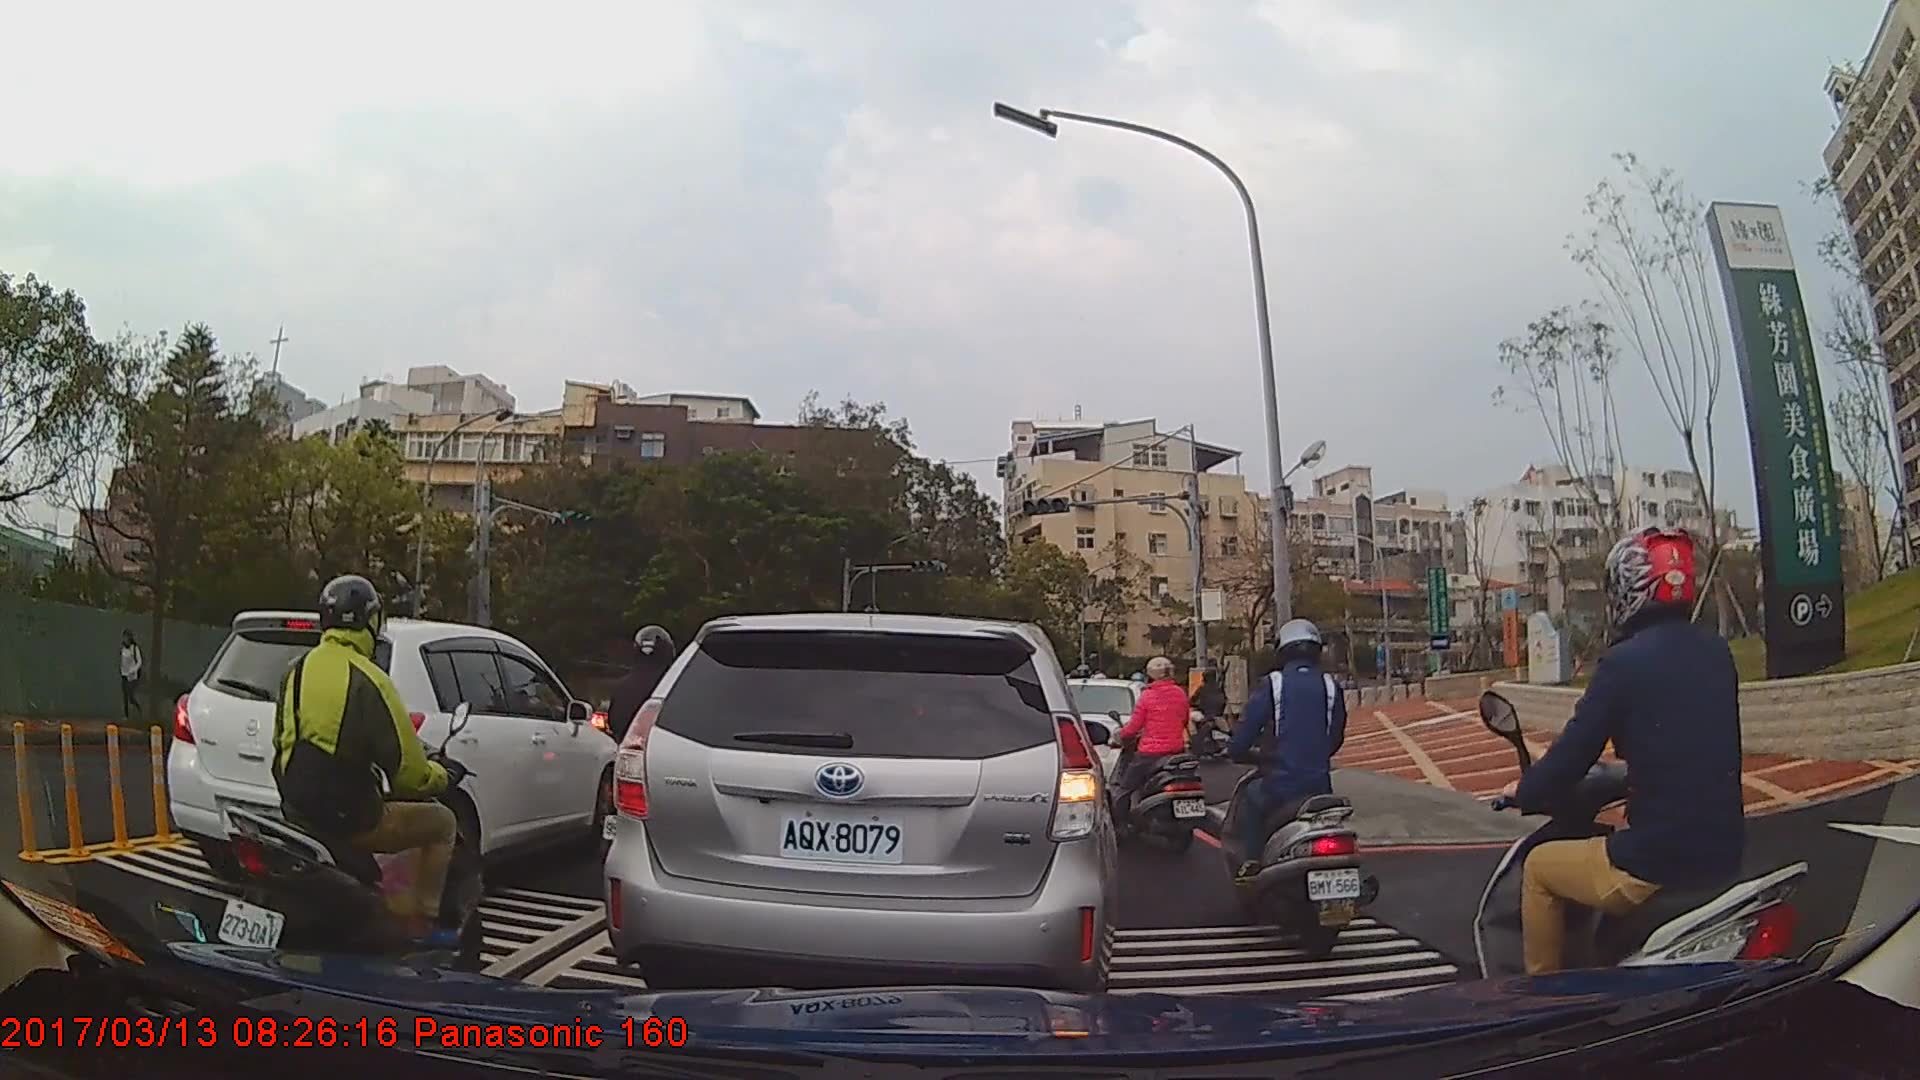pedestrian: (117, 630, 147, 722)
rider: (1475, 514, 1815, 1057), (220, 574, 492, 1003), (1220, 615, 1370, 956), (601, 619, 700, 932), (1100, 653, 1208, 862), (1185, 666, 1236, 760)
vehicle: (601, 611, 1118, 993), (165, 609, 629, 912)
